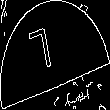L_S: (41, 27, 69, 83)
